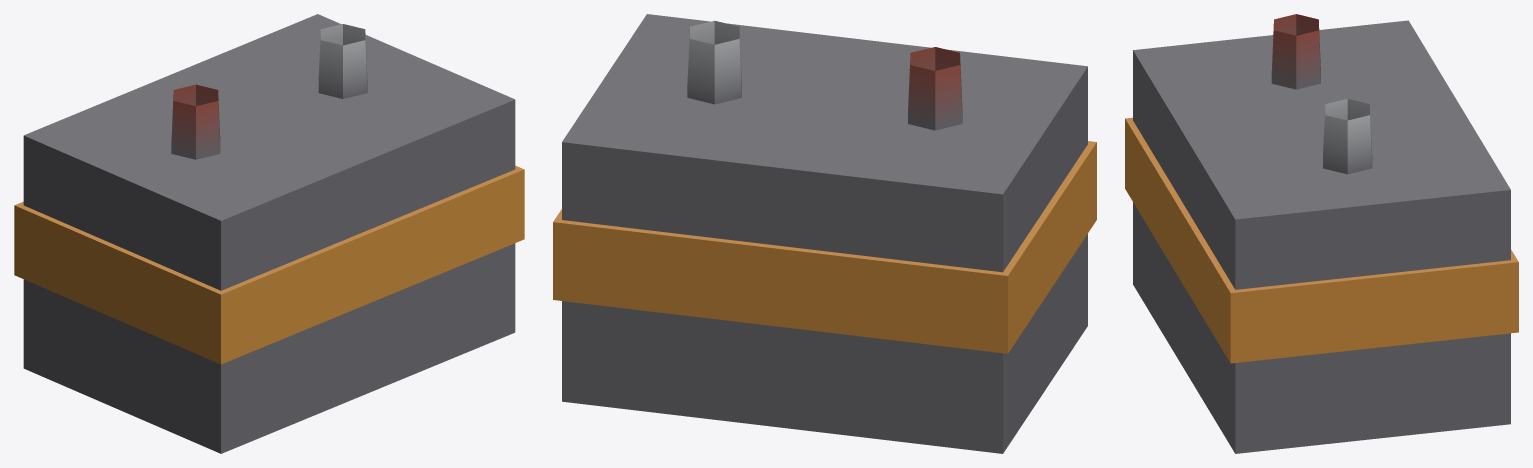
The model's file is drop_battery_a.glb.
3 views of the same model, side by side, from view 1: azimuth 30°, elevation 25°; view 2: azimuth 150°, elevation 25°; view 3: azimuth 270°, elevation 25° (orthographic). The views are drawn at different scales.
Parts seen in each view (by area): view 1: drop_battery_a; view 2: drop_battery_a; view 3: drop_battery_a.
Boxes of the visible parts, x1,y1,x2,y2 form: drop_battery_a: (14,14,524,453); drop_battery_a: (553,14,1096,453); drop_battery_a: (1125,14,1518,453).
Bounding box in the file's own units: 0.3766 × 0.245 × 0.3045.
